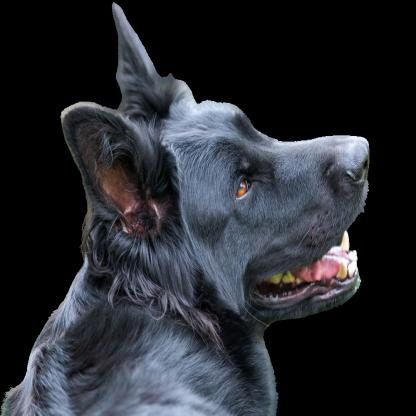dog: (0, 10, 370, 416)
